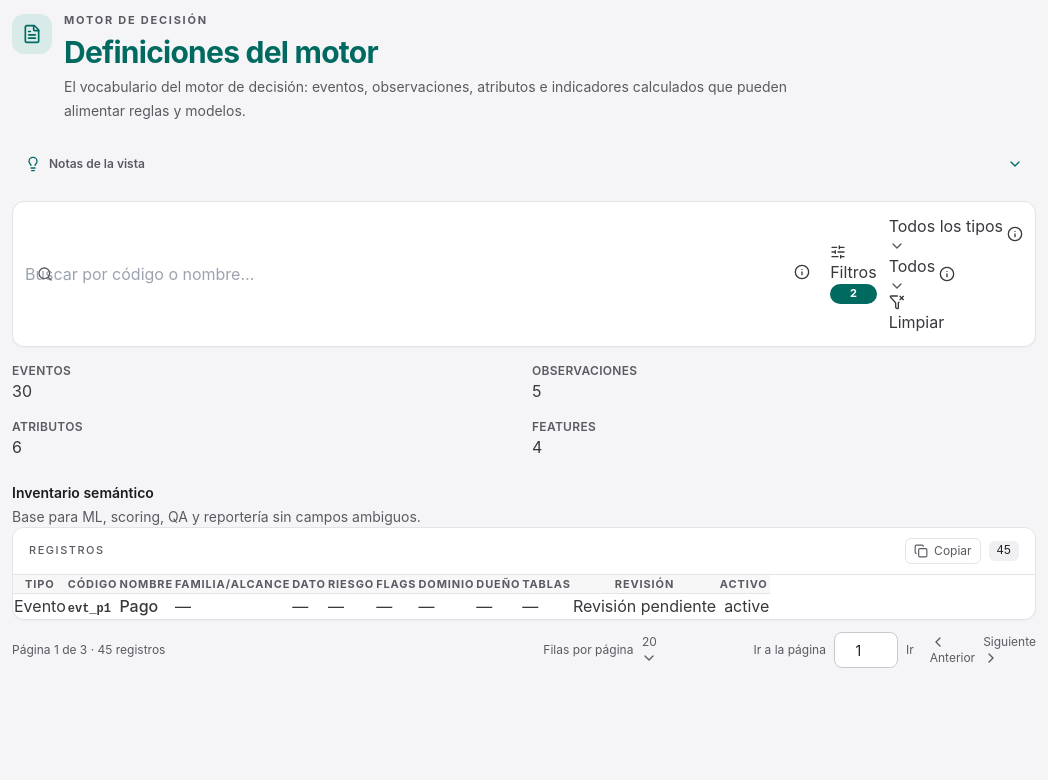
Test case: Definiciones del motor (L7) › q viaja (una letra no rompe), pagina en servidor y las tarjetas salen del summary
Expected: the heading "Definiciones del motor" is shown, x1=64 y1=34 x2=378 y2=70
Expected: the text "evt_p1" is shown, x1=68 y1=602 x2=111 y2=616
In the field labelled "Buscar por código o nombre…": (149, 274) x1=25 y1=262 x2=273 y2=286, type "p"
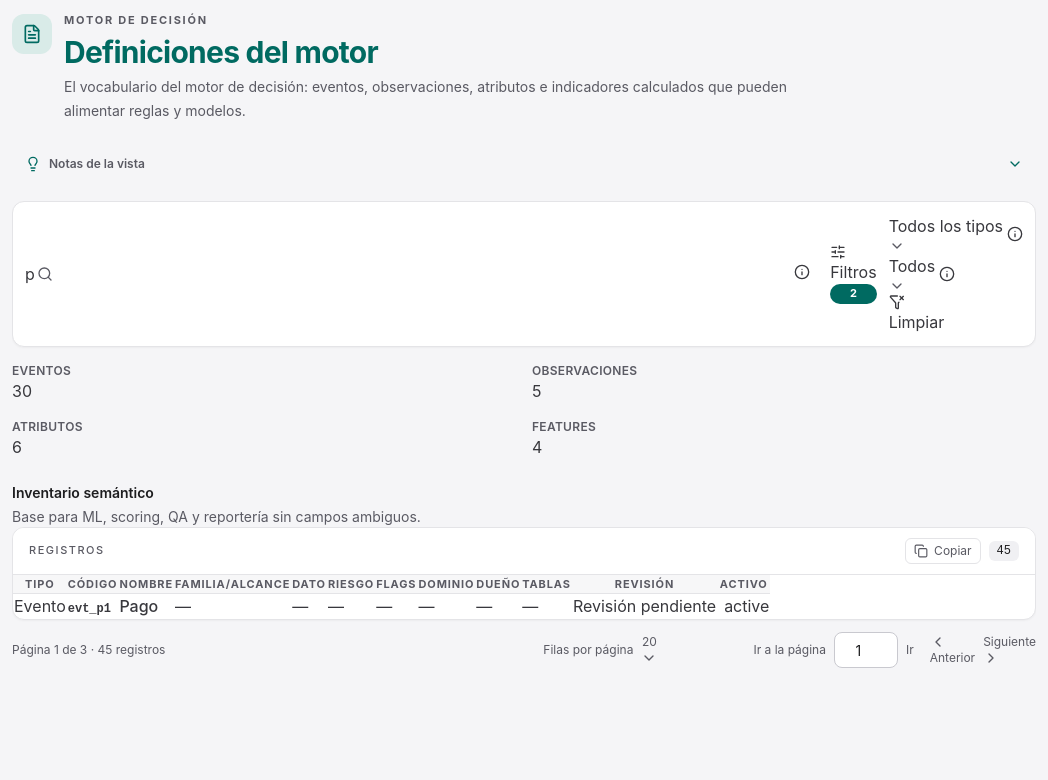
Click the button "Siguiente": (1010, 650) x1=983 y1=634 x2=1036 y2=666
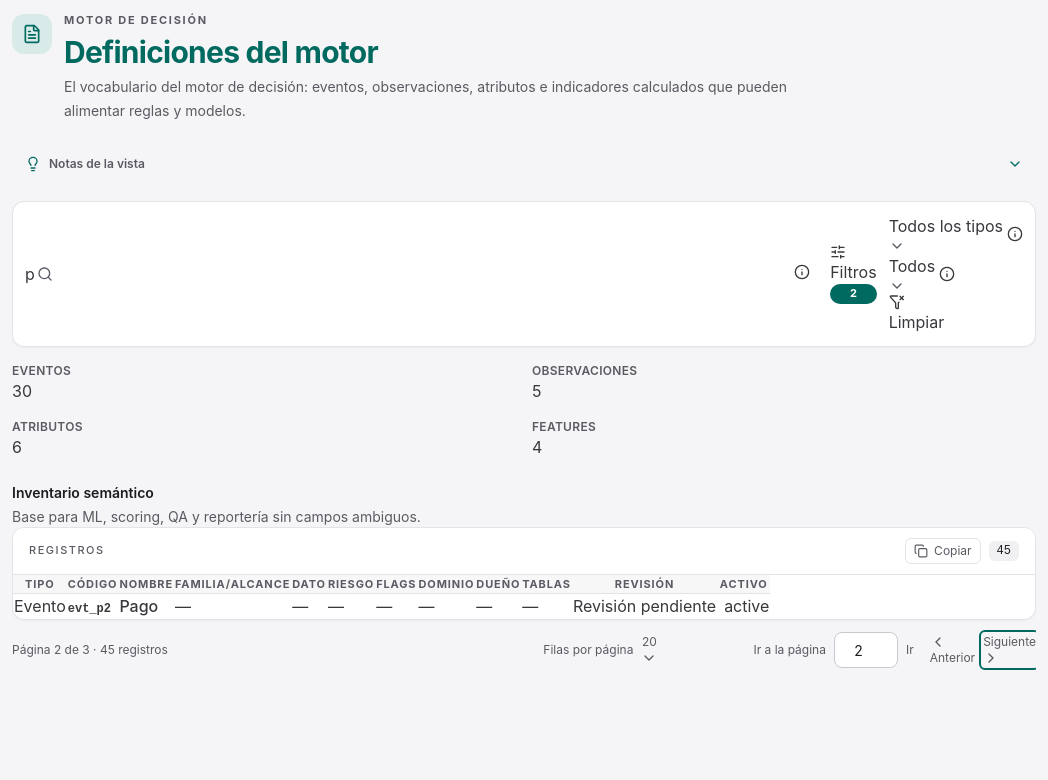
Now the text "evt_p2" is shown, box x1=68 y1=602 x2=111 y2=616
